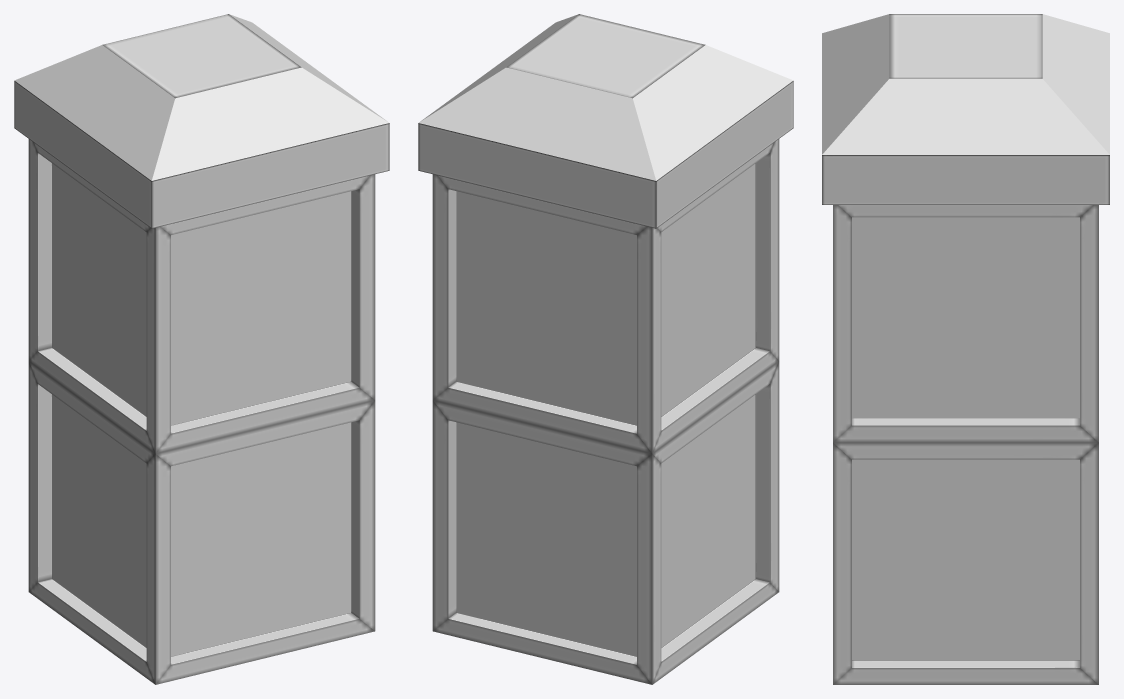
Rendered from Phone-Booth-01.fbx.
3 views of the same model, side by side, from view 1: azimuth 30°, elevation 25°; view 2: azimuth 150°, elevation 25°; view 3: azimuth 270°, elevation 25° (orthographic). The views are drawn at different scales.
Visible parts, largest first — view 1: Phone_Booth_01; view 2: Phone_Booth_01; view 3: Phone_Booth_01.
Part boxes in pixels (bbox=[...]): Phone_Booth_01: bbox=[14, 14, 389, 684]; Phone_Booth_01: bbox=[418, 14, 793, 684]; Phone_Booth_01: bbox=[822, 14, 1109, 684].
Size of the model in its own units: 0.5211 by 1.16 by 0.5211.
